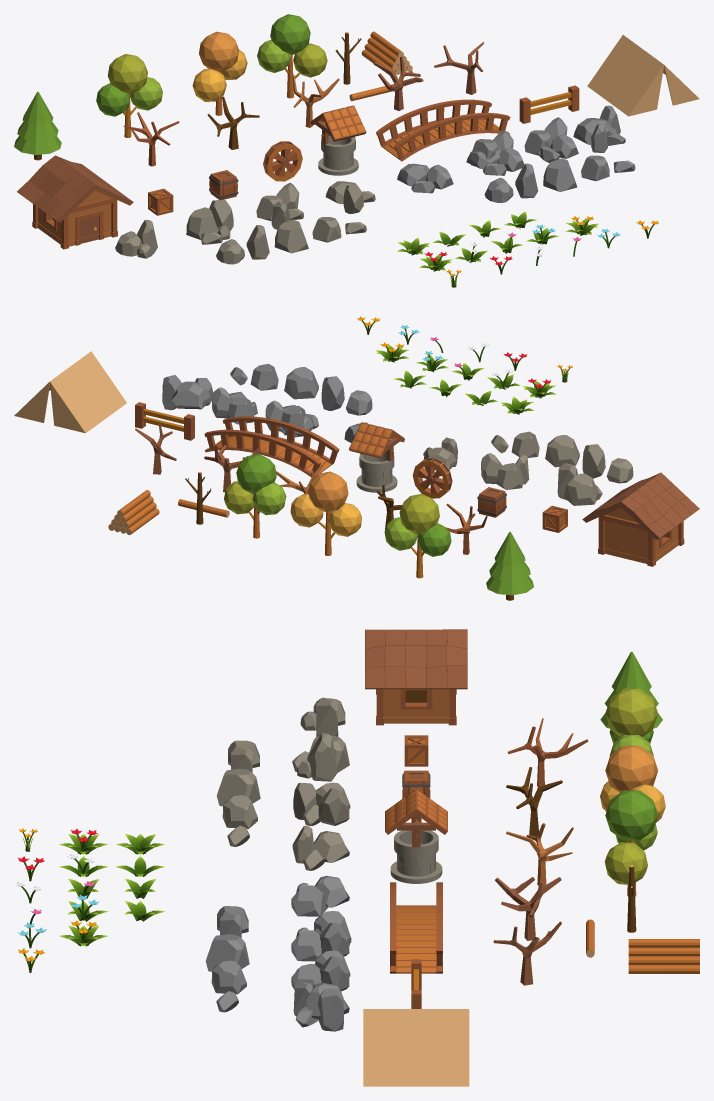
File: Environment.fbx
3 renders of one model, top to bottom at view 1: azimuth 30°, elevation 25°; view 2: azimuth 150°, elevation 25°; view 3: azimuth 270°, elevation 25°, orthographic. The views are drawn at different scales.
Visible parts, largest first — view 1: House, Tent, Bridge, Tree 1, Tree 3, Tree 2, Well, Tree 4, Rocks.007, Rocks.005, Rocks, Rocks.001 (+22 smaller); view 2: House, Tent, Bridge, Tree 2, Tree 3, Tree 1, Well, Tree 4, Rocks.001, Rocks.005, Rocks.004, Tree Trunck 1 (+18 smaller); view 3: House, Tent, Well, Bridge, Tree 1, Tree 2, Tree 3, Tree Trunck 1, Rocks.001, Rocks.004, Rocks.007, Rocks.005 (+15 smaller).
Part boxes in pixels (left/top/right/bottom): House: left=17, top=155, right=133, bottom=249; Tent: left=587, top=35, right=699, bottom=116; Bridge: left=376, top=99, right=510, bottom=161; Tree 1: left=257, top=14, right=327, bottom=98; Tree 3: left=96, top=54, right=162, bottom=137; Tree 2: left=192, top=31, right=247, bottom=115; Well: left=310, top=105, right=366, bottom=175; Tree 4: left=14, top=91, right=61, bottom=160; Rocks.007: left=466, top=130, right=524, bottom=175; Rocks.005: left=186, top=200, right=233, bottom=244; Rocks: left=524, top=117, right=578, bottom=163; Rocks.001: left=573, top=105, right=625, bottom=152; House: left=582, top=472, right=699, bottom=566; Tent: left=14, top=351, right=126, bottom=433; Bridge: left=204, top=416, right=339, bottom=477; Tree 2: left=290, top=471, right=361, bottom=555; Tree 3: left=384, top=494, right=451, bottom=578; Tree 1: left=224, top=454, right=286, bottom=538; Well: left=349, top=422, right=404, bottom=492; Tree 4: left=486, top=531, right=533, bottom=600; Rocks.001: left=162, top=375, right=212, bottom=410; Rocks.005: left=557, top=463, right=602, bottom=505; Rocks.004: left=481, top=453, right=529, bottom=489; Tree Trunck 1: left=108, top=490, right=159, bottom=535; House: left=365, top=629, right=467, bottom=725; Tent: left=363, top=1009, right=469, bottom=1086; Well: left=385, top=789, right=447, bottom=883; Bridge: left=390, top=882, right=442, bottom=973; Tree 1: left=604, top=790, right=657, bottom=896; Tree 2: left=600, top=745, right=665, bottom=822; Tree 3: left=605, top=688, right=658, bottom=755; Tree Trunck 1: left=628, top=939, right=699, bottom=973; Rocks.001: left=293, top=981, right=349, bottom=1031; Rocks.004: left=293, top=782, right=350, bottom=826; Rocks.007: left=291, top=911, right=351, bottom=961; Rocks.005: left=292, top=733, right=349, bottom=781.
Bounding box in the file's own units: 3596 × 466 × 2591.
